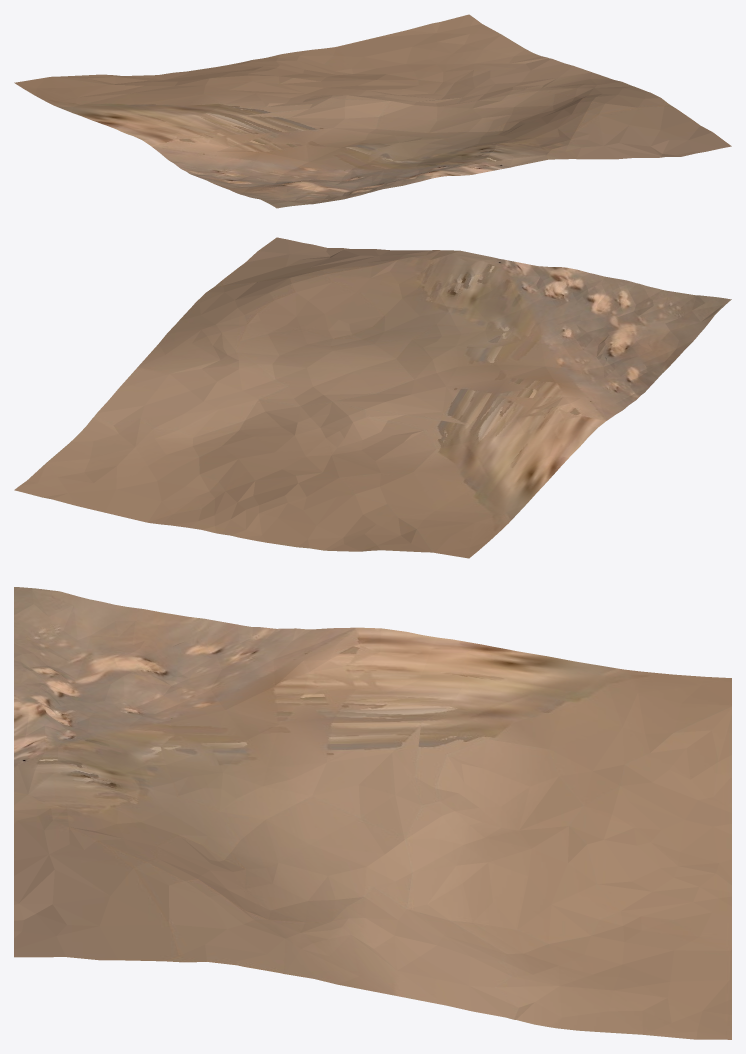
3 renders of one model, top to bottom at view 1: azimuth 30°, elevation 25°; view 2: azimuth 150°, elevation 25°; view 3: azimuth 270°, elevation 25°, orthographic. The views are drawn at different scales.
Size of the model in its own units: 1.04 by 0.241 by 1.04.
Materials: 2 (2 with a texture image).
